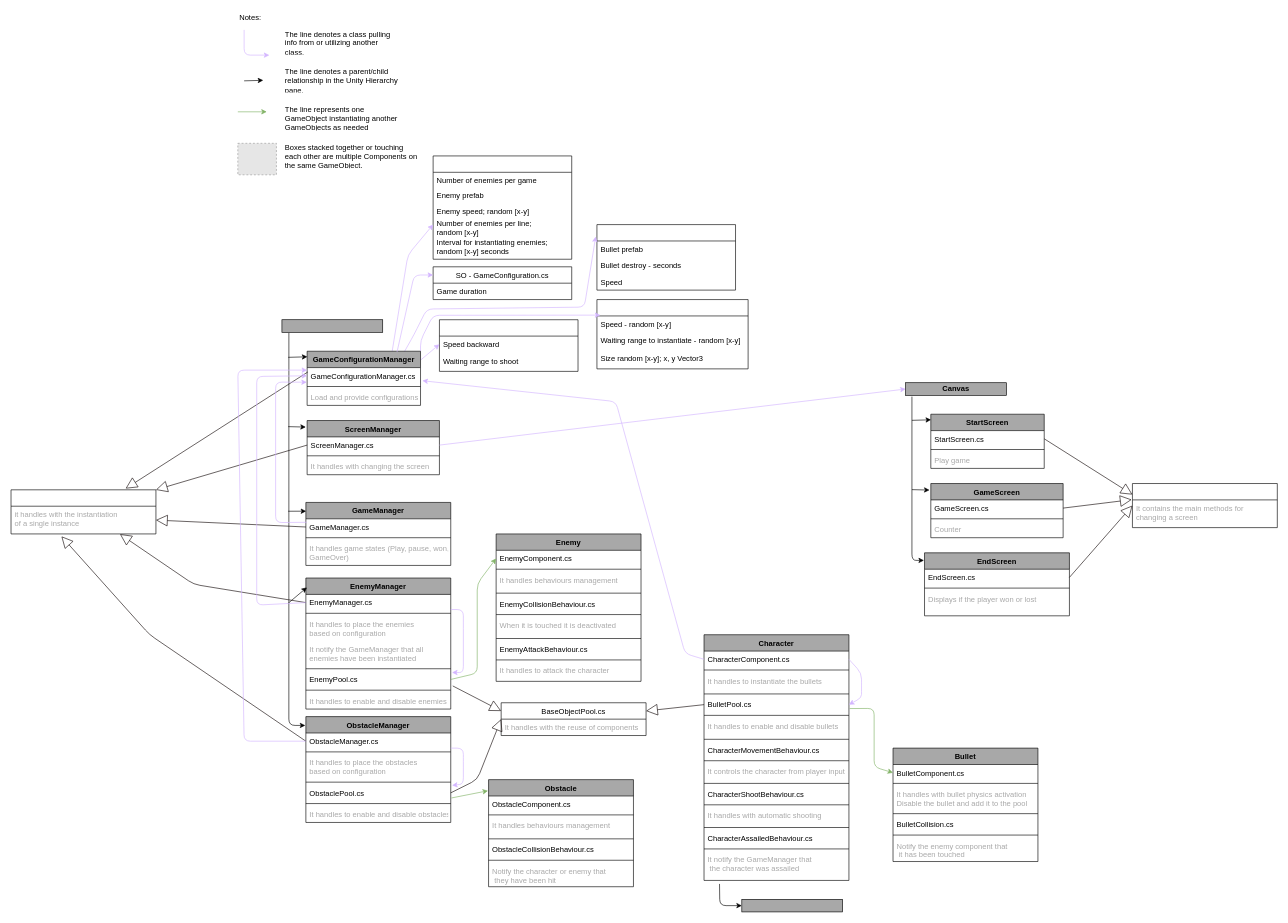
The diagram is 1288 pixels wide and 923 high, and some of its shapes have lost their labels. Grey dashed boxes stand in for pictures. Each missing label, with the box of its shape:
BaseScreen.cs: (1132, 483, 1277, 528)
Main Camera: (741, 899, 843, 912)
Managers: (281, 319, 383, 332)
MonoSingleton.cs: (10, 489, 156, 534)
SO - BulletConfiguration.cs: (596, 224, 736, 290)
SO - CharacterConfiguration.cs: (439, 319, 578, 371)
SO - EnemyConfiguration.cs: (432, 155, 572, 259)
SO - ObstacleConfiguration.cs: (596, 299, 748, 369)
